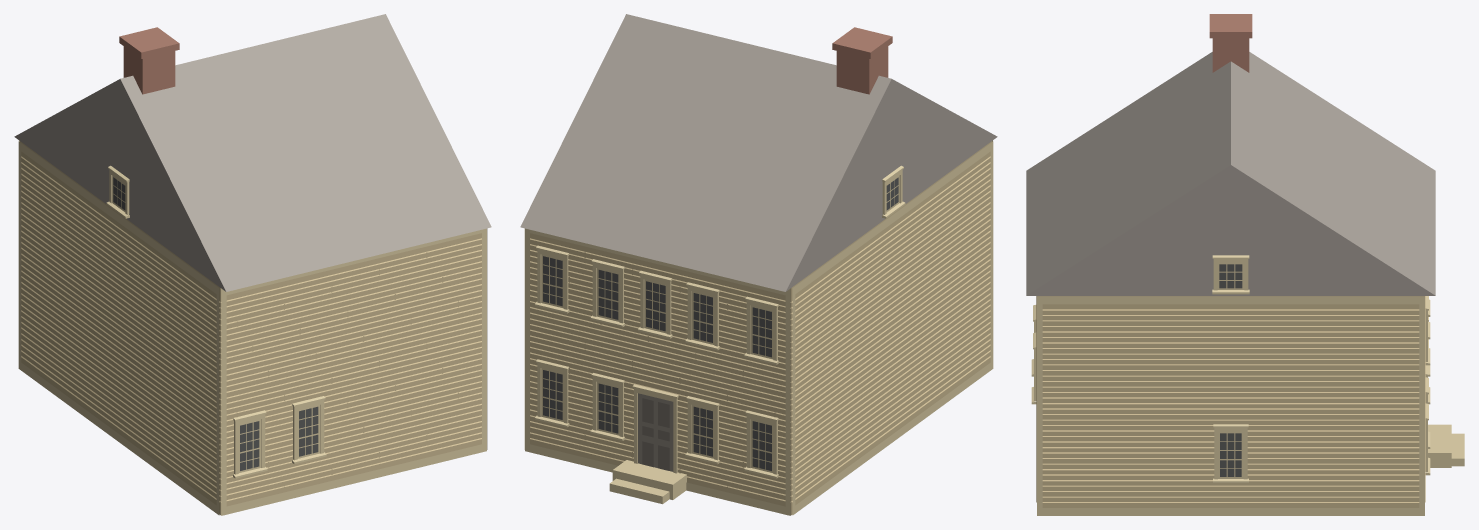
File: recon_1835_north_d7_076__inferred_1835.glb
The picture shows the model from 3 angles, left to right: view 1: azimuth 30°, elevation 25°; view 2: azimuth 150°, elevation 25°; view 3: azimuth 270°, elevation 25°; orthographic projection. The views are drawn at different scales.
Parts seen in each view (by area): view 1: recon_1835_north_d7_076__inferred_1835; view 2: recon_1835_north_d7_076__inferred_1835; view 3: recon_1835_north_d7_076__inferred_1835.
Boxes of the visible parts, box(x1,y1,x2,y2) form: recon_1835_north_d7_076__inferred_1835: box(14, 14, 491, 515); recon_1835_north_d7_076__inferred_1835: box(520, 14, 997, 515); recon_1835_north_d7_076__inferred_1835: box(1026, 14, 1464, 515).
Size of the model in its own units: 7.05 by 9.69 by 10.11.
